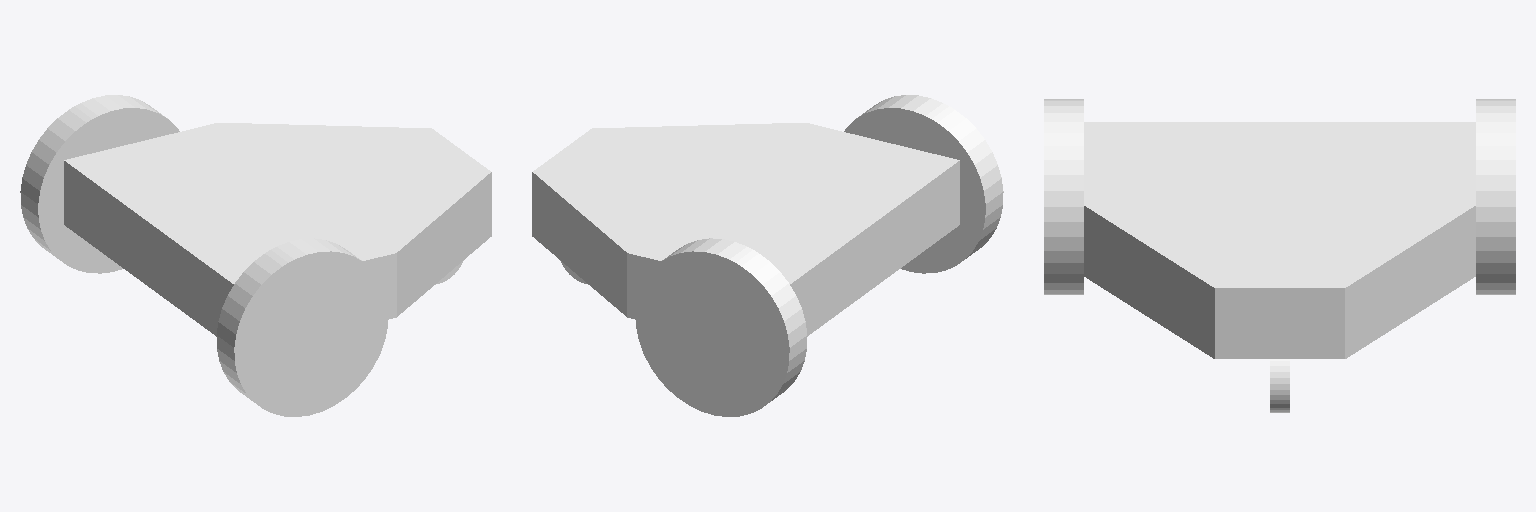
The robot description file, URDF, robot "car":
<robot name="car">
  <material name="white">
    <color rgba="1.0 1.0 1.0 1.0"/>
  </material>
  <link name="world"/>
  <joint name="fixed" type="fixed">
    <origin rpy="0 0 0" xyz="0 0 0.115"/>
    <parent link="world"/>
    <child link="baseplate"/>
  </joint>
  <link name="baseplate">
    <visual>
      <geometry>
        <mesh filename="package://car_description/meshes/baseplate.STL"/>
      </geometry>
      <origin rpy="0 0 0" xyz="0 0 0"/>
      <material name="white"/>
    </visual>
    <collision>
      <geometry>
        <mesh filename="package://car_description/meshes/baseplate.STL"/>
      </geometry>
      <origin rpy="0 0 0" xyz="0 0 0"/>
    </collision>
    <inertial>
      <mass value="3.0"/>
      <origin rpy="0 0 0" xyz="0.08 0 -0.03"/>
      <inertia ixx="0.0291" ixy="0" ixz="0" iyy="0.029925" iyz="0" izz="0.056325"/>
    </inertial>
  </link>
  <gazebo reference="baseplate">
    <material>Gazebo/Red</material>
  </gazebo>
  <joint name="joint1" type="continuous">
    <origin rpy="0 0 0" xyz="0 -0.15 -0.04"/>
    <axis xyz="0 1 0"/>
    <parent link="baseplate"/>
    <child link="wheel1"/>
    <dynamics damping="0.1"/>
    <!--<limit effort="100" lower="-3.1415" upper="3.1415" velocity="3.0" />-->
  </joint>
  <transmission name="joint1_trans">
    <type>transmission_interface/SimpleTransmission</type>
    <joint name="joint1">
      <hardwareInterface>hardware_interface/EffortJointInterface</hardwareInterface>
    </joint>
    <actuator name="joint1_motor">
      <hardwareInterface>hardware_interface/EffortJointInterface</hardwareInterface>
      <mechanismReduction>1</mechanismReduction>
    </actuator>
  </transmission>
  <link name="wheel1">
    <visual>
      <geometry>
        <mesh filename="package://car_description/meshes/wheel1.STL"/>
      </geometry>
      <origin rpy="0 0 0" xyz="0 0.15 0.04"/>
      <material name="white"/>
    </visual>
    <collision>
      <geometry>
        <mesh filename="package://car_description/meshes/wheel1.STL"/>
      </geometry>
      <origin rpy="0 0 0" xyz="0 0.15 0.04"/>
    </collision>
    <inertial>
      <mass value="0.4"/>
      <origin rpy="0 0 0" xyz="0 -0.015 0"/>
      <inertia ixx="0.000785" ixy="0" ixz="0" iyy="0.001491" iyz="0" izz="0.000785"/>
    </inertial>
  </link>
  <gazebo reference="wheel1">
    <material>Gazebo/Red</material>
  </gazebo>
  <joint name="joint2" type="continuous">
    <origin rpy="0 0 0" xyz="0 0.15 -0.04"/>
    <axis xyz="0 1 0"/>
    <parent link="baseplate"/>
    <child link="wheel2"/>
    <dynamics damping="0.1"/>
    <!--<limit effort="100" lower="-3.1415" upper="3.1415" velocity="3.0" />-->
  </joint>
  <transmission name="joint2_trans">
    <type>transmission_interface/SimpleTransmission</type>
    <joint name="joint2">
      <hardwareInterface>hardware_interface/EffortJointInterface</hardwareInterface>
    </joint>
    <actuator name="joint2_motor">
      <hardwareInterface>hardware_interface/EffortJointInterface</hardwareInterface>
      <mechanismReduction>1</mechanismReduction>
    </actuator>
  </transmission>
  <link name="wheel2">
    <visual>
      <geometry>
        <mesh filename="package://car_description/meshes/wheel2.STL"/>
      </geometry>
      <origin rpy="0 0 0" xyz="0 -0.15 0.04"/>
      <material name="white"/>
    </visual>
    <collision>
      <geometry>
        <mesh filename="package://car_description/meshes/wheel2.STL"/>
      </geometry>
      <origin rpy="0 0 0" xyz="0 -0.15 0.04"/>
    </collision>
    <inertial>
      <mass value="0.4"/>
      <origin rpy="0 0 0" xyz="0 0.015 0"/>
      <inertia ixx="0.000785" ixy="0" ixz="0" iyy="0.001491" iyz="0" izz="0.000785"/>
    </inertial>
  </link>
  <gazebo reference="wheel2">
    <material>Gazebo/Red</material>
  </gazebo>
  <joint name="joint3" type="continuous">
    <origin rpy="0 0 0" xyz="0.2225 0 -0.0875"/>
    <axis xyz="0 1 0"/>
    <parent link="baseplate"/>
    <child link="support"/>
    <dynamics damping="0.1"/>
    <!--<limit effort="100" lower="-3.1415" upper="3.1415" velocity="3.0" />-->
  </joint>
  <transmission name="joint3_trans">
    <type>transmission_interface/SimpleTransmission</type>
    <joint name="joint3">
      <hardwareInterface>hardware_interface/EffortJointInterface</hardwareInterface>
    </joint>
    <actuator name="joint3_motor">
      <hardwareInterface>hardware_interface/EffortJointInterface</hardwareInterface>
      <mechanismReduction>1</mechanismReduction>
    </actuator>
  </transmission>
  <link name="support">
    <visual>
      <geometry>
        <mesh filename="package://car_description/meshes/support.STL"/>
      </geometry>
      <origin rpy="0 0 0" xyz="-0.2225 0 0.0875"/>
      <material name="white"/>
    </visual>
    <collision>
      <geometry>
        <mesh filename="package://car_description/meshes/support.STL"/>
      </geometry>
      <origin rpy="0 0 0" xyz="-0.2225 0 0.0875"/>
    </collision>
    <inertial>
      <mass value="1.8"/>
      <origin rpy="0 0 0" xyz="0 0 0"/>
      <inertia ixx="0.000785" ixy="0" ixz="0" iyy="0.001491" iyz="0" izz="0.000785"/>
    </inertial>
  </link>
  <gazebo reference="support">
    <material>Gazebo/Red</material>
  </gazebo>
</robot>

--- What the picture shows (computed from the rendered views, not written in the file) ---
3 views of the same robot in one strip: view 1: azimuth 30°, elevation 25°; view 2: azimuth 150°, elevation 25°; view 3: azimuth 270°, elevation 25° (orthographic).
Model car with 5 links and 4 joints (3 continuous, 1 fixed), rooted at world, posed every joint at zero.
Links seen in each view (by area): view 1: baseplate, wheel1, wheel2; view 2: baseplate, wheel2, wheel1; view 3: baseplate, wheel1, wheel2, support.
Link boxes in pixels (<box>): baseplate: <box>64,123,491,336</box>; wheel1: <box>217,238,388,416</box>; wheel2: <box>20,95,179,273</box>; baseplate: <box>532,123,959,336</box>; wheel2: <box>635,238,806,416</box>; wheel1: <box>844,95,1003,273</box>; baseplate: <box>1084,122,1475,358</box>; wheel1: <box>1044,99,1083,294</box>; wheel2: <box>1476,99,1515,294</box>; support: <box>1270,359,1289,412</box>.
Size in the robot's own frame: 0.3249 by 0.36 by 0.1499 metres.
4 mesh visuals loaded from 4 distinct referenced files (4 binary STL).